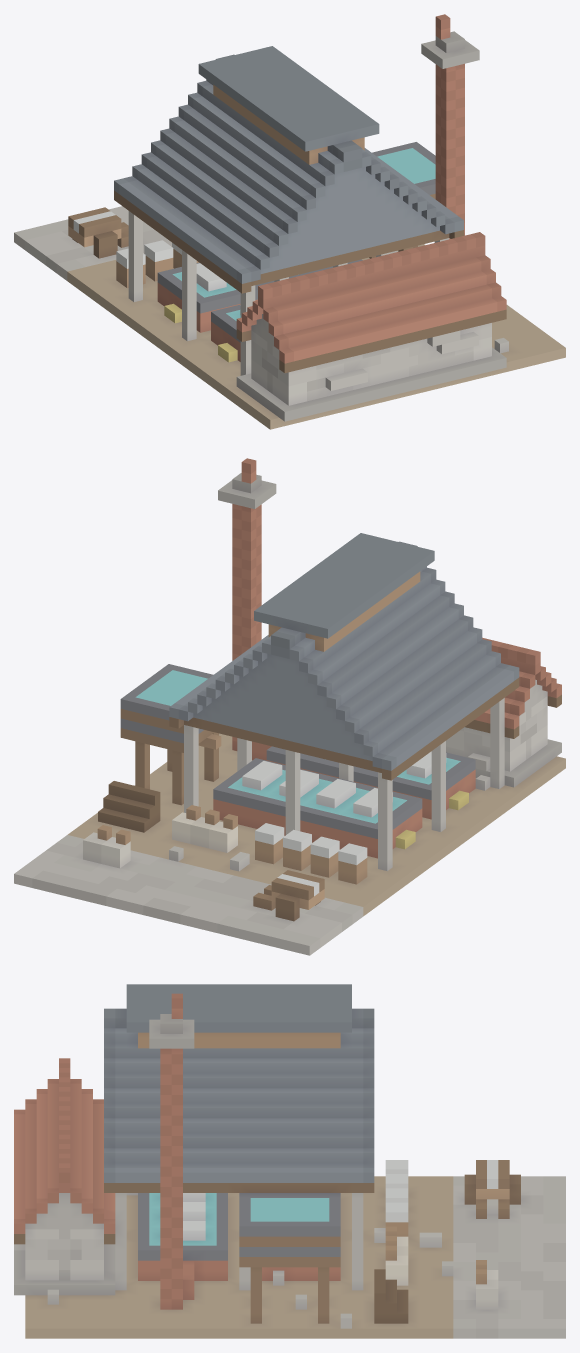
The model's file is salt_works.glb.
3 renders of one model, top to bottom at view 1: azimuth 30°, elevation 25°; view 2: azimuth 150°, elevation 25°; view 3: azimuth 270°, elevation 25°, orthographic. The views are drawn at different scales.
Parts seen in each view (by area): view 1: salt_works; view 2: salt_works; view 3: salt_works.
Boxes of the visible parts, bbox=[...] form: salt_works: bbox=[14, 14, 565, 429]; salt_works: bbox=[14, 458, 565, 955]; salt_works: bbox=[14, 984, 565, 1338].
Bounding box in the file's own units: 4 × 3.88 × 6.12.
